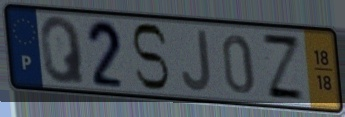0: (219, 32, 258, 96)
2: (85, 15, 130, 94)
J: (180, 28, 214, 94)
Q: (37, 15, 88, 87)
S: (129, 21, 172, 93)
Z: (259, 31, 307, 104)
